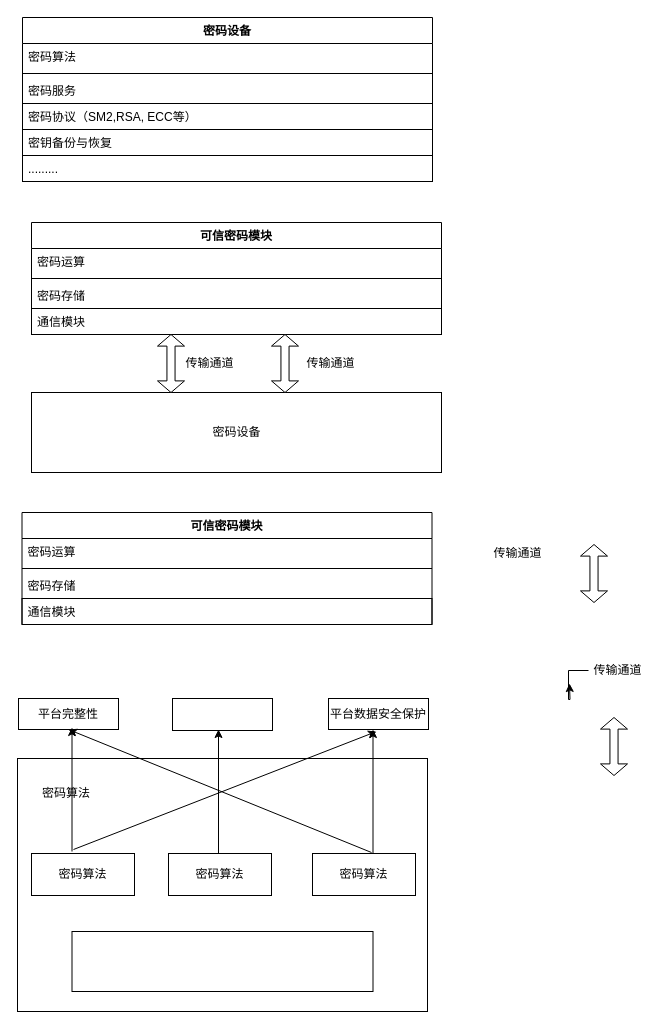
The diagram is 664 pixels wide and 1029 high, and some of its shapes have lost their labels. Here are the shapes that lost their labels. From the top down, the centre of each, then its label:
At [222,714]: "平台身份可信".
At [222,961]: "随机数生成器".
